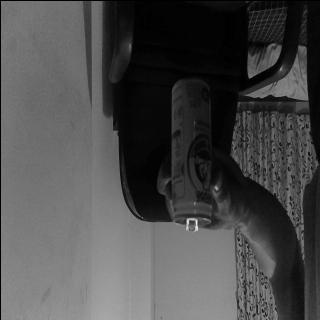alumunium_can: (168, 78, 212, 232)
